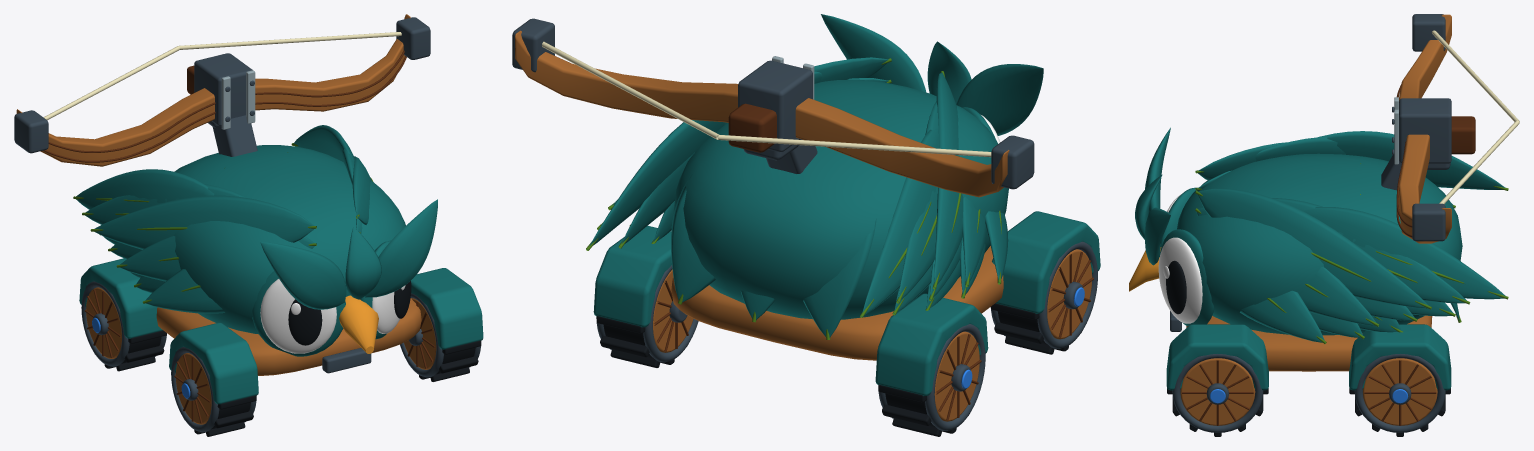
Rendered from CrossBow.fbx.
3 views of the same model, side by side, from view 1: azimuth 30°, elevation 25°; view 2: azimuth 150°, elevation 25°; view 3: azimuth 270°, elevation 25° (orthographic). The views are drawn at different scales.
Parts seen in each view (by area): view 1: Owl rounded feather body, Overlapping owl leaf, Flat laminated recurved oak limb, Low curved owl carriage, Flat laminated recurved oak limb.001, Teal wheel arch.001, Teal wheel arch.003, Pointed owl brow leaf, Pointed owl brow leaf.001, Overlapping owl leaf.002, Teal wheel arch, Ivory sclera (+29 smaller); view 2: Owl rounded feather body, Low curved owl carriage, Flat laminated recurved oak limb, Flat laminated recurved oak limb.001, Teal wheel arch, Teal wheel arch.001, Teal wheel arch.002, Pointed owl brow leaf, Overlapping owl leaf.011, Overlapping owl leaf.002, Central steel bow clamp, Overlapping owl leaf (+25 smaller); view 3: Owl rounded feather body, Overlapping owl leaf.009, Overlapping owl leaf.011, Teal wheel arch.003, Teal wheel arch.002, Low curved owl carriage, Solid wheel face.007, Solid wheel face.005, Overlapping owl leaf.002, Central steel bow clamp, Overlapping owl leaf.010, Flat laminated recurved oak limb.001 (+25 smaller).
Part boxes in pixels (box(x1,y1,x2,y2)): Owl rounded feather body: box(174, 145, 405, 334); Overlapping owl leaf: box(94, 195, 316, 249); Flat laminated recurved oak limb: box(16, 88, 214, 166); Low curved owl carriage: box(156, 298, 421, 375); Flat laminated recurved oak limb.001: box(255, 14, 410, 111); Teal wheel arch.001: box(169, 322, 258, 404); Teal wheel arch.003: box(411, 268, 483, 349); Pointed owl brow leaf: box(260, 242, 346, 309); Pointed owl brow leaf.001: box(365, 199, 437, 297); Overlapping owl leaf.002: box(76, 169, 214, 209); Teal wheel arch: box(79, 258, 162, 338); Ivory sclera: box(260, 279, 336, 353); Owl rounded feather body: box(673, 79, 1008, 319); Low curved owl carriage: box(671, 246, 1003, 360); Flat laminated recurved oak limb: box(795, 98, 1009, 197); Flat laminated recurved oak limb.001: box(515, 30, 738, 122); Teal wheel arch: box(875, 293, 988, 395); Teal wheel arch.001: box(992, 211, 1100, 313); Teal wheel arch.002: box(593, 225, 671, 327); Pointed owl brow leaf: box(956, 64, 1043, 135); Overlapping owl leaf.011: box(587, 120, 724, 249); Overlapping owl leaf.002: box(861, 128, 938, 316); Central steel bow clamp: box(738, 60, 812, 152); Overlapping owl leaf: box(934, 72, 963, 287); Owl rounded feather body: box(1177, 153, 1462, 335); Overlapping owl leaf.009: box(1197, 188, 1428, 308); Overlapping owl leaf.011: box(1304, 207, 1505, 299); Teal wheel arch.003: box(1166, 324, 1268, 390); Teal wheel arch.002: box(1349, 324, 1451, 390); Low curved owl carriage: box(1186, 315, 1432, 371); Solid wheel face.007: box(1180, 358, 1255, 425); Solid wheel face.005: box(1363, 358, 1437, 425); Overlapping owl leaf.002: box(1318, 131, 1505, 189); Central steel bow clamp: box(1399, 98, 1451, 163); Overlapping owl leaf.010: box(1272, 198, 1466, 303); Flat laminated recurved oak limb.001: box(1398, 134, 1451, 243).
Size of the model in its own units: 394 by 246 by 326.
